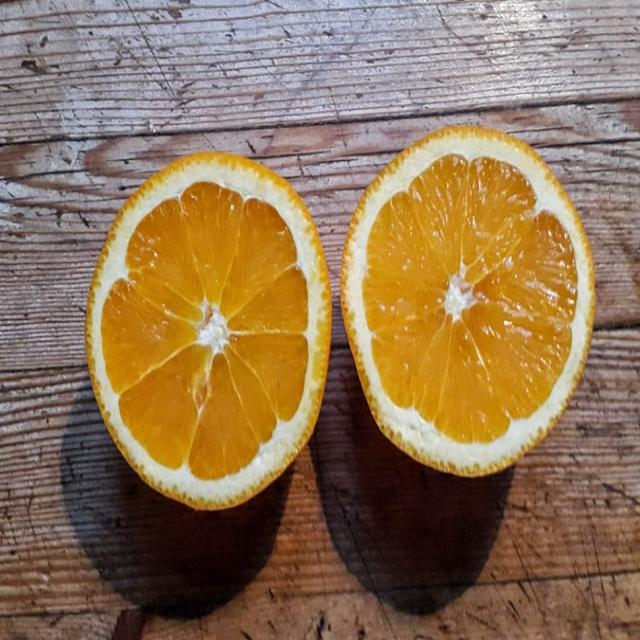orange: (344, 125, 596, 481), (84, 154, 334, 508)
